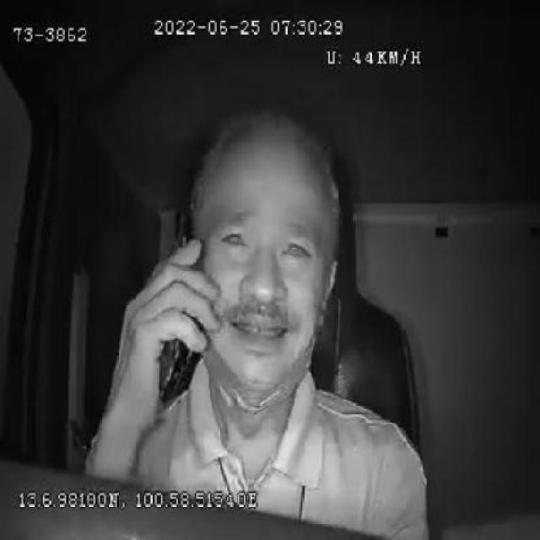phone: (157, 210, 202, 404)
